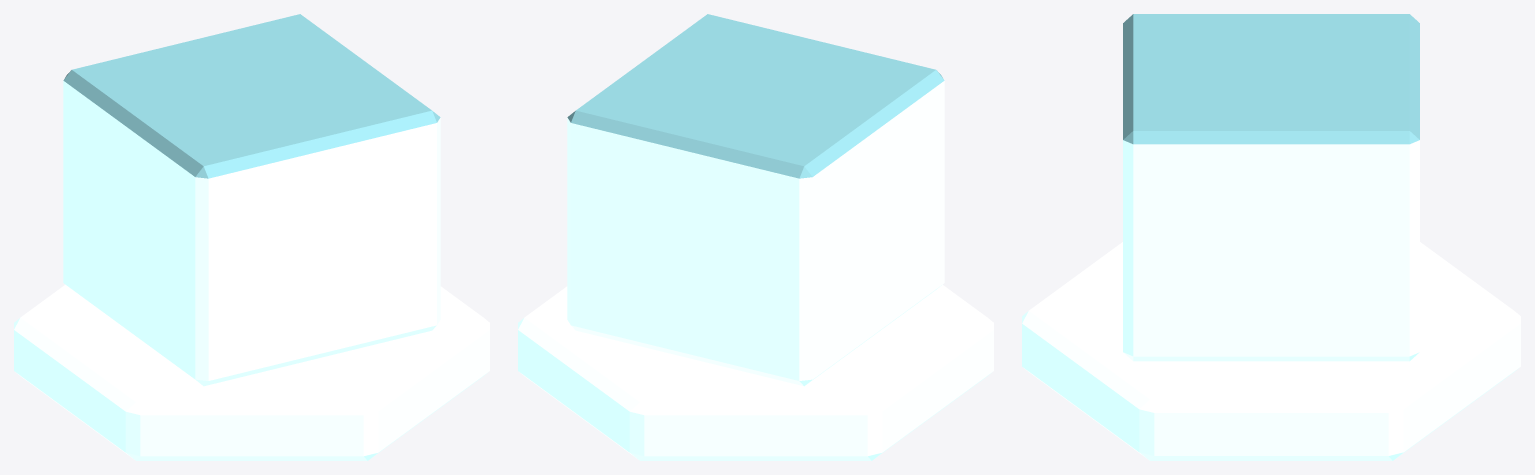
Rendered from Pickup_Shield.fbx.
The picture shows the model from 3 angles, left to right: view 1: azimuth 30°, elevation 25°; view 2: azimuth 150°, elevation 25°; view 3: azimuth 270°, elevation 25°; orthographic projection. The views are drawn at different scales.
Parts seen in each view (by area): view 1: Pickup_Shield; view 2: Pickup_Shield; view 3: Pickup_Shield.
Boxes of the visible parts, <box> form: Pickup_Shield: <box>14,14,489,460</box>; Pickup_Shield: <box>518,14,993,460</box>; Pickup_Shield: <box>1022,14,1520,460</box>.
Bounding box in the file's own units: 0.5196 × 0.39 × 0.588.
